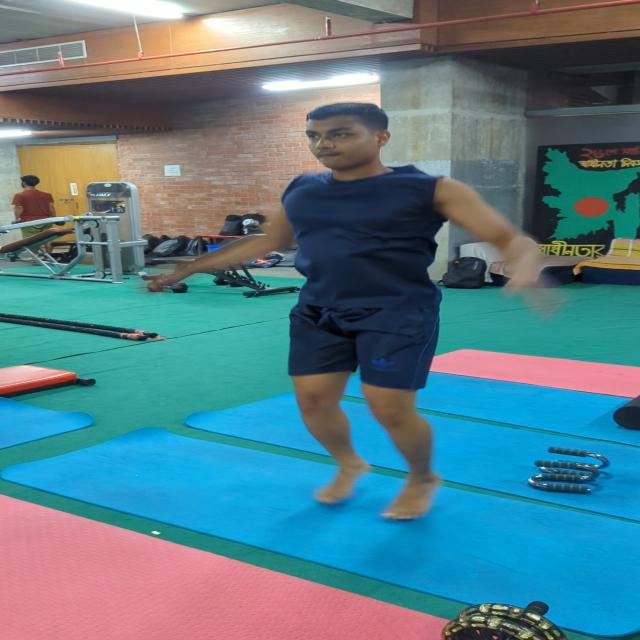Normal_JumpingJacks: (132, 114, 569, 534)
